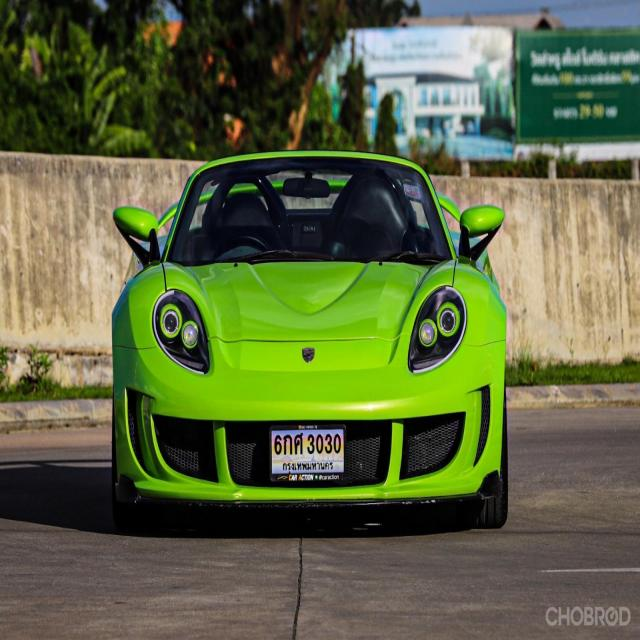license_plate: (268, 426, 345, 486)
